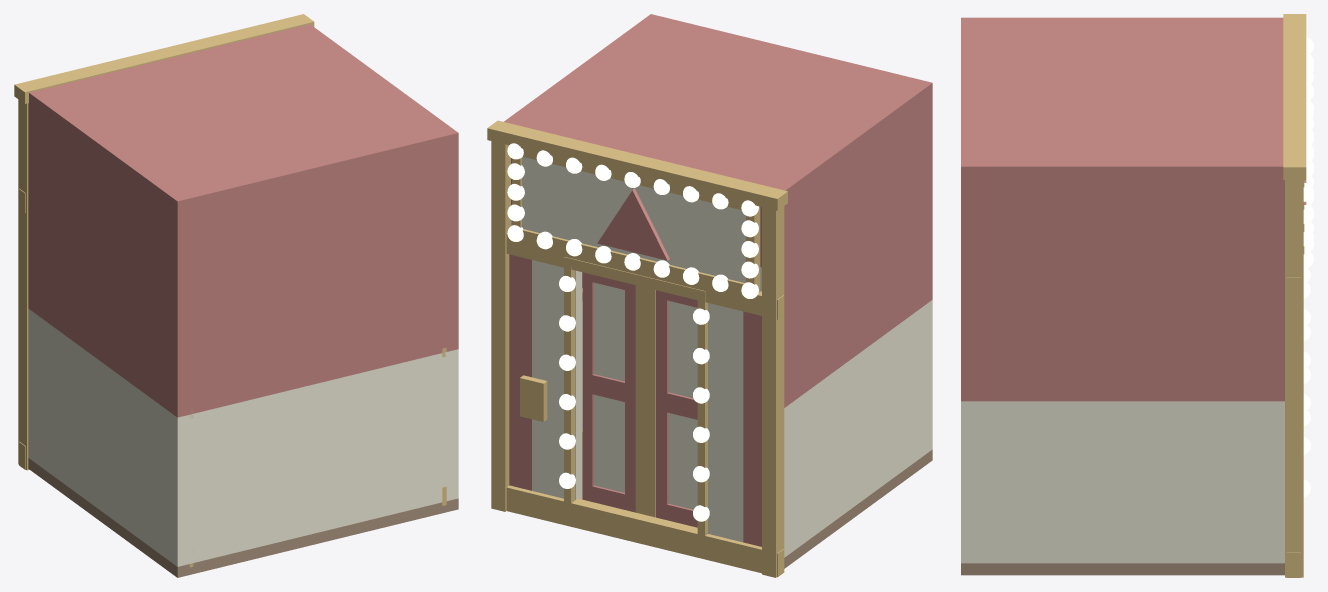
The model's file is CarnivalElevator.fbx.
The picture shows the model from 3 angles, left to right: view 1: azimuth 30°, elevation 25°; view 2: azimuth 150°, elevation 25°; view 3: azimuth 270°, elevation 25°; orthographic projection. The views are drawn at different scales.
Parts seen in each view (by area): view 1: CarnivalElevator; view 2: CarnivalElevator, DoorRight, DoorLeft; view 3: CarnivalElevator.
Part boxes in pixels (<box>): CarnivalElevator: <box>14,14,458,577</box>; CarnivalElevator: <box>487,14,932,577</box>; DoorRight: <box>582,272,645,514</box>; DoorLeft: <box>645,288,697,527</box>; CarnivalElevator: <box>961,14,1313,577</box>.
Size of the model in its own units: 4.12 by 5.16 by 4.01.
